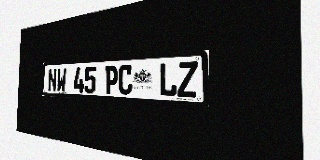4: (73, 67, 85, 93)
5: (84, 66, 96, 93)
C: (118, 64, 133, 95)
L: (158, 62, 177, 97)
N: (48, 68, 57, 92)
P: (104, 65, 118, 94)
W: (56, 68, 66, 92)
Z: (177, 61, 198, 98)
